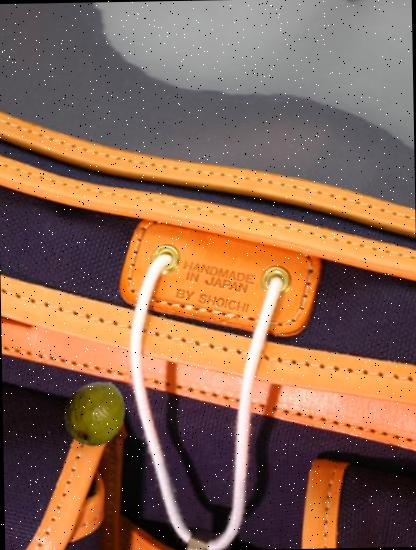Guava: (60, 378, 130, 448)
